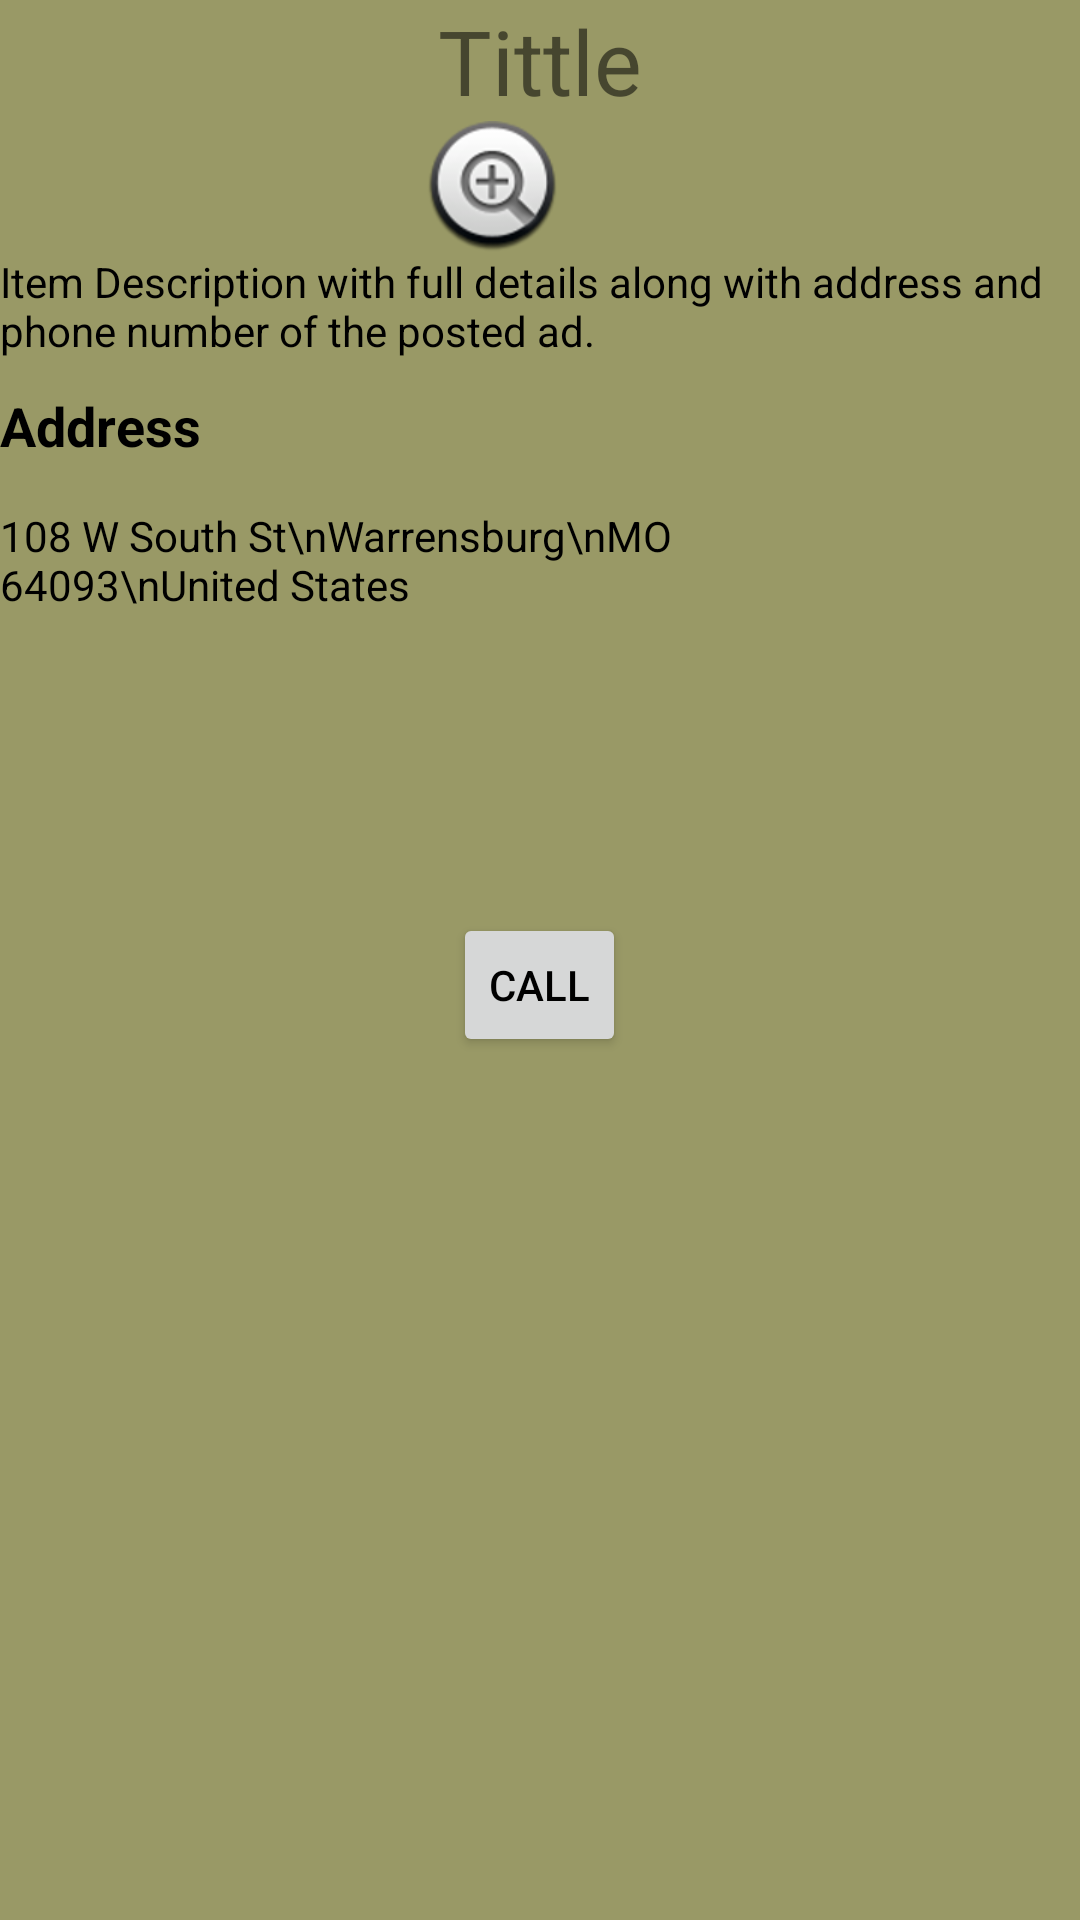

Icons on this 1080×1920 Android screen, each with its box as {"x1": x1, "y1": y1, "x2": x2, "y2": y2}:
plus: {"x1": 430, "y1": 122, "x2": 555, "y2": 249}
